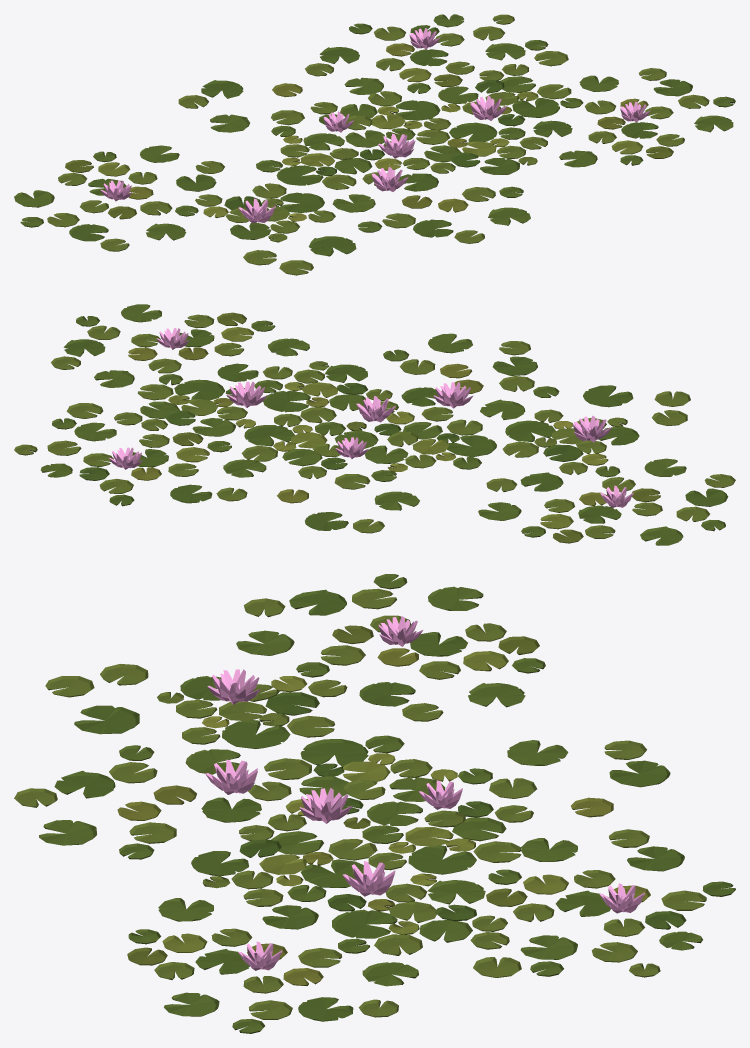
File: zone1-decor4.glb
3 views of the same model, one above another, from view 1: azimuth 30°, elevation 25°; view 2: azimuth 150°, elevation 25°; view 3: azimuth 270°, elevation 25° (orthographic). The views are drawn at different scales.
Visible parts, largest first — view 1: waterplant-lily-water-pond--tuft-a.001; view 2: waterplant-lily-water-pond--tuft-a.001; view 3: waterplant-lily-water-pond--tuft-a.001.
Part boxes in pixels (bbox=[...]): waterplant-lily-water-pond--tuft-a.001: bbox=[14, 14, 735, 275]; waterplant-lily-water-pond--tuft-a.001: bbox=[14, 304, 735, 545]; waterplant-lily-water-pond--tuft-a.001: bbox=[14, 574, 735, 1033].
Bounding box in the file's own units: 14.14 × 0.3812 × 9.41.
Materials: 3 (2 with a texture image).
